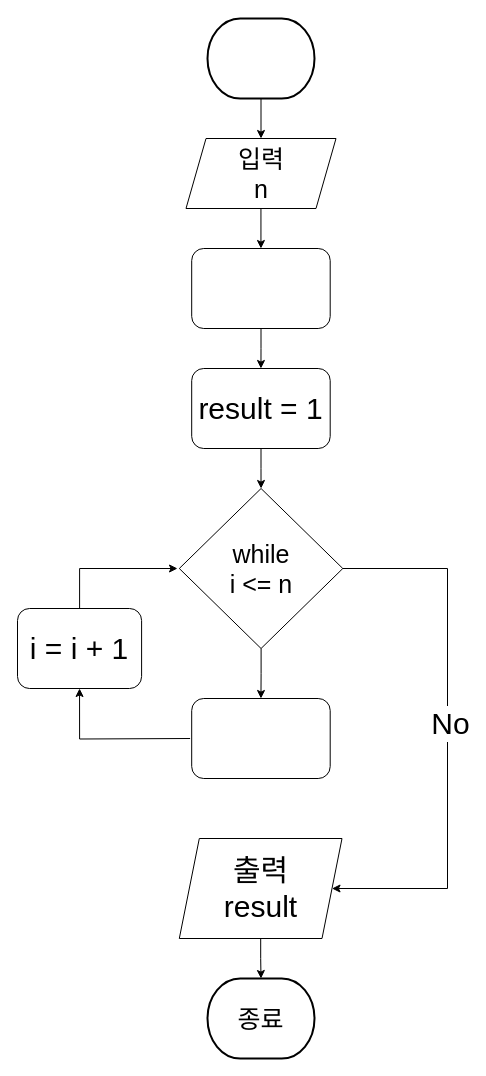
This 486x1076 diagram has some shape labels left out. The shapes that lost their labels are listed below. From the top down, each one's centre as x and y in pixels, then its label:
At point (260, 58): "시작".
At point (260, 288): "i = 1".
At point (260, 738): "result = result * i".
